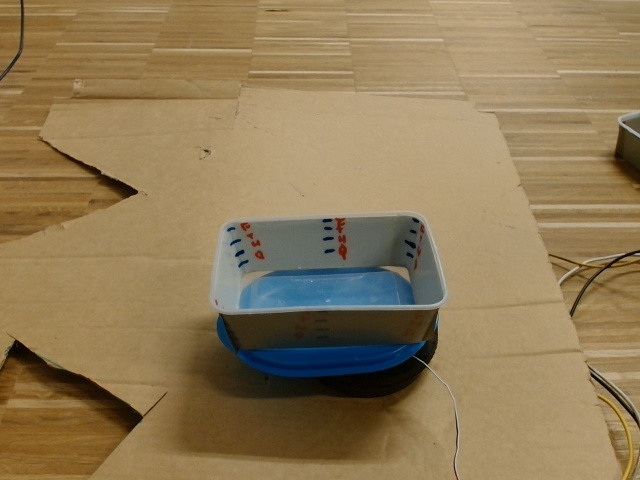Small_zero: (212, 209, 447, 317)
